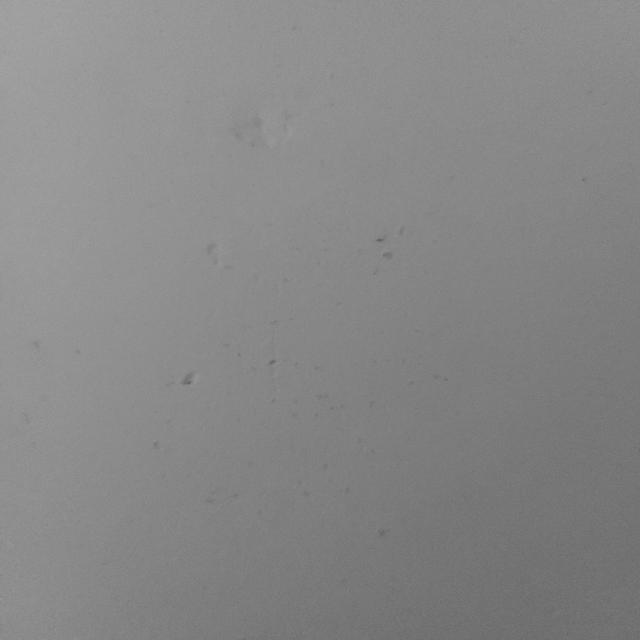rough and patchy surface: (166, 100, 539, 427)
